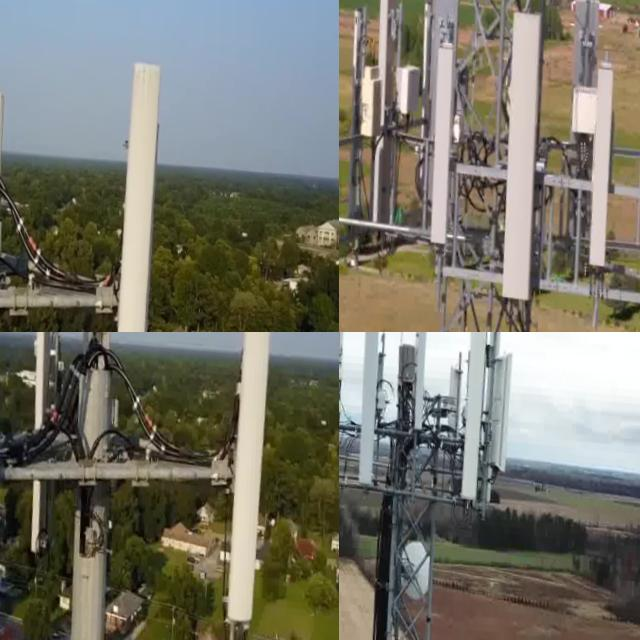GSM Antenna: (207, 332, 297, 625), (480, 0, 558, 312), (348, 0, 416, 243), (111, 61, 162, 332), (12, 332, 69, 553), (414, 36, 469, 262), (573, 66, 625, 279), (446, 332, 498, 501), (344, 332, 391, 486), (476, 340, 516, 475), (79, 332, 120, 441), (0, 82, 17, 332), (404, 332, 432, 433), (630, 36, 640, 236), (339, 332, 351, 431)
Microwave Antenna: (383, 533, 434, 615)
